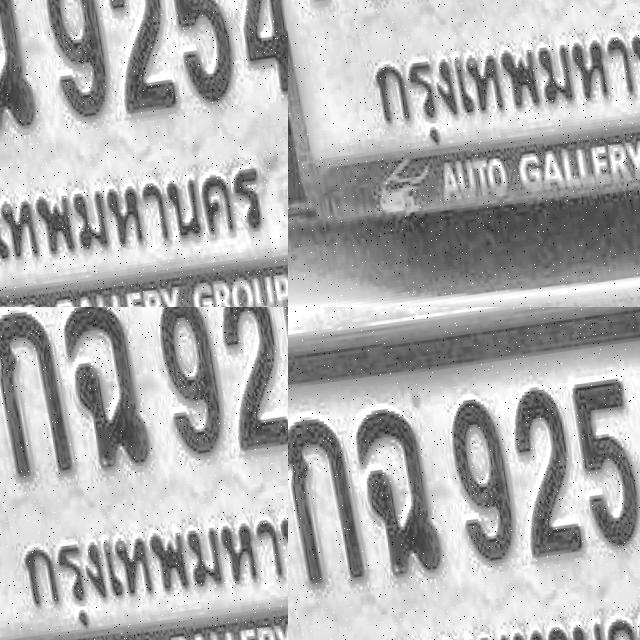license-plate: (288, 307, 640, 640), (0, 307, 120, 402)
